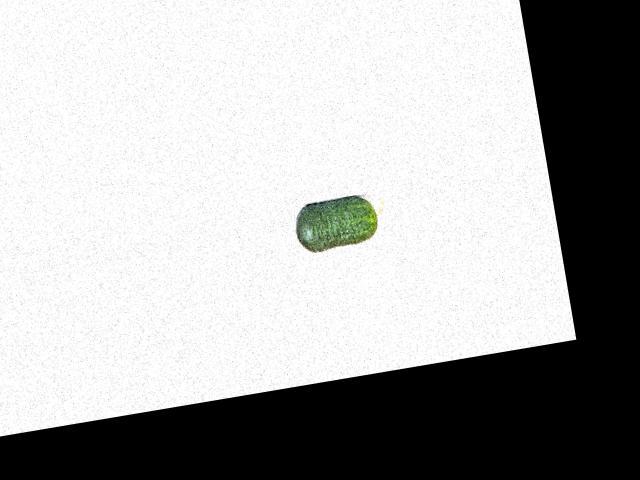cucumber: (292, 190, 391, 255)
